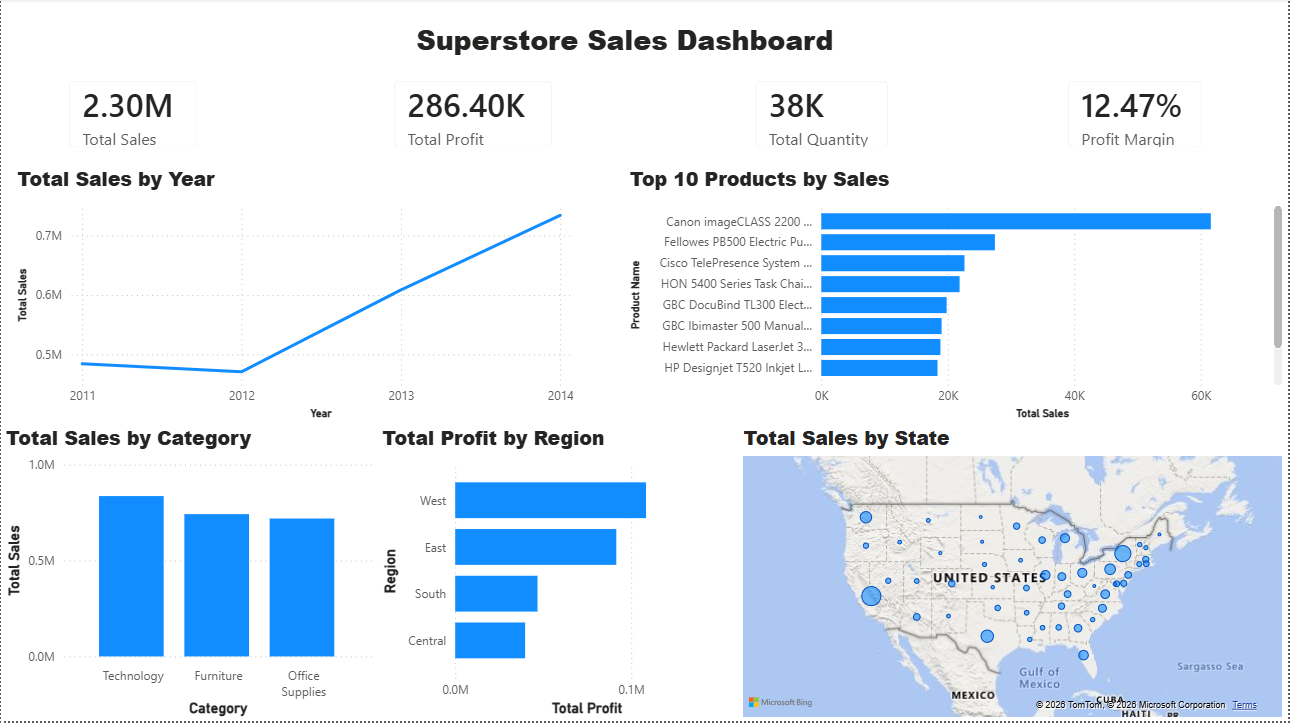

Layout of this report page (visuals, bound fields, positions):
{"tool":"powerbi","page":{"name":"Page 1","canvas":[1280,720],"ordinal":0},"visuals":[{"type":"clusteredColumnChart","fields":{"Category":["Orders.Category"],"Y":["Orders.Total Sales"]},"box":[0,424.2,374.4,296.1],"z":0},{"type":"clusteredBarChart","fields":{"Category":["Orders.Region"],"Y":["Orders.Total Profit"]},"box":[374.4,424.2,359.5,296.1],"z":1000},{"type":"map","fields":{"Category":["Orders.State","Orders.Country"],"Size":["Orders.Total Sales"]},"box":[733.9,424.2,546.1,296.1],"z":2000},{"type":"cardVisual","fields":{"Data":["Orders.Total Sales"]},"box":[51,65.9,161.7,100.8],"z":3000},{"type":"cardVisual","fields":{"Data":["Orders.Total Profit"]},"box":[374.4,65.9,191.6,100.8],"z":4000},{"type":"cardVisual","fields":{"Data":["Orders.Total Quantity"]},"box":[733.9,65.9,166.7,100.8],"z":5000},{"type":"cardVisual","fields":{"Data":["Orders.Profit Margin"]},"box":[1044.9,65.9,167.9,100.8],"z":6000},{"type":"lineChart","fields":{"Category":["Orders.Order Date.Variation.Date Hierarchy.Year","Orders.Order Date.Variation.Date Hierarchy.Quarter","Orders.Order Date.Variation.Date Hierarchy.Month","Orders.Order Date.Variation.Date Hierarchy.Day"],"Y":["Orders.Total Sales"]},"box":[11.2,166.7,563.5,257.5],"z":7000},{"type":"clusteredBarChart","title":"Top 10 Products by Sales","fields":{"Category":["Orders.Product Name"],"Y":["Orders.Total Sales"]},"box":[620.7,166.7,659.3,257.5],"z":8000},{"type":"textbox","box":[212.7,17.4,832.2,48.5],"z":8001}]}

Visuals, with their boxes in screenshot pixels (x1, y1, x2, y2), scaled from the page's 1280x720 canvas onto the 1291x723 screenshot:
clusteredColumnChart - Orders.Category x Orders.Total Sales: l=0, t=426, r=378, b=722
clusteredBarChart - Orders.Region x Orders.Total Profit: l=378, t=426, r=740, b=722
map - Orders.State x Orders.Country: l=740, t=426, r=1290, b=722
cardVisual - Orders.Total Sales: l=51, t=66, r=215, b=167
cardVisual - Orders.Total Profit: l=378, t=66, r=571, b=167
cardVisual - Orders.Total Quantity: l=740, t=66, r=908, b=167
cardVisual - Orders.Profit Margin: l=1054, t=66, r=1223, b=167
lineChart - Orders.Order Date.Variation.Date Hierarchy.Year x Orders.Order Date.Variation.Date Hierarchy.Quarter: l=11, t=167, r=580, b=426
"Top 10 Products by Sales" clusteredBarChart: l=626, t=167, r=1290, b=426
textbox: l=215, t=17, r=1054, b=66
